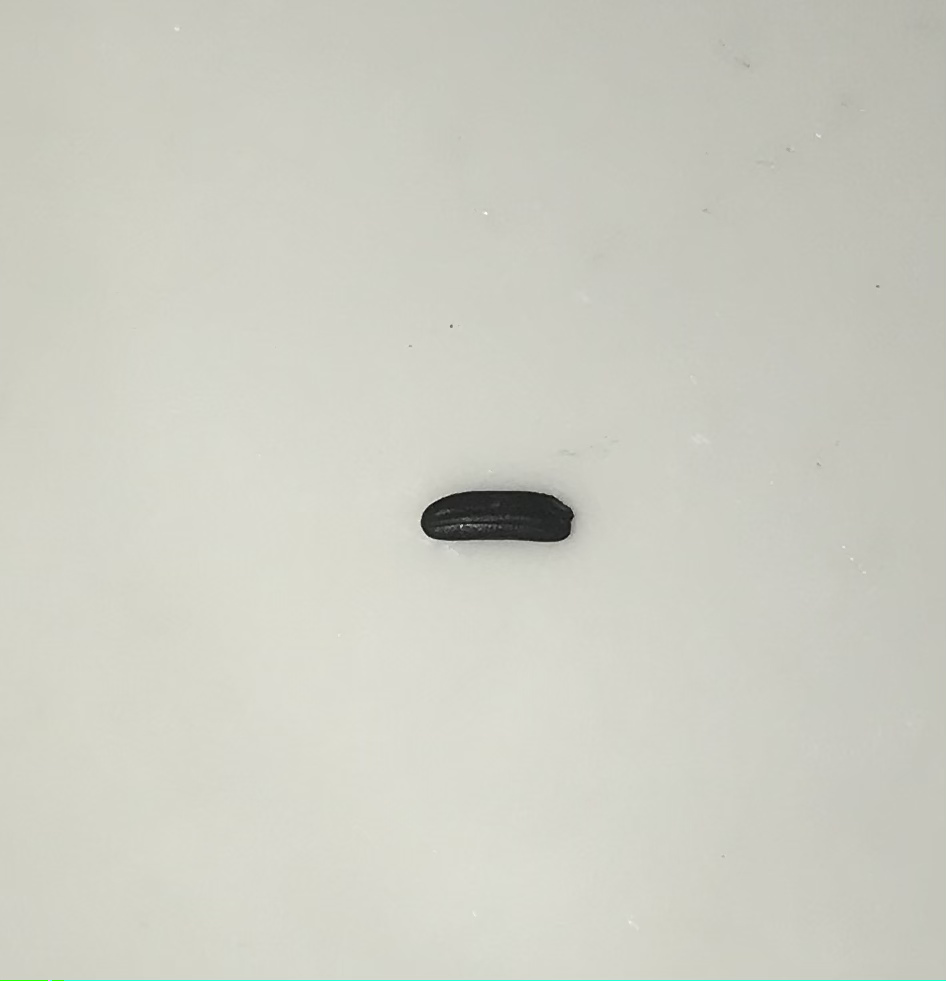Gao Nep Cam: (403, 457, 586, 560)
